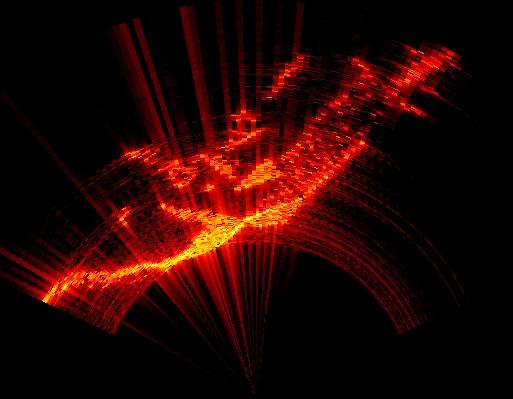shipwreck: (47, 49, 453, 300)
